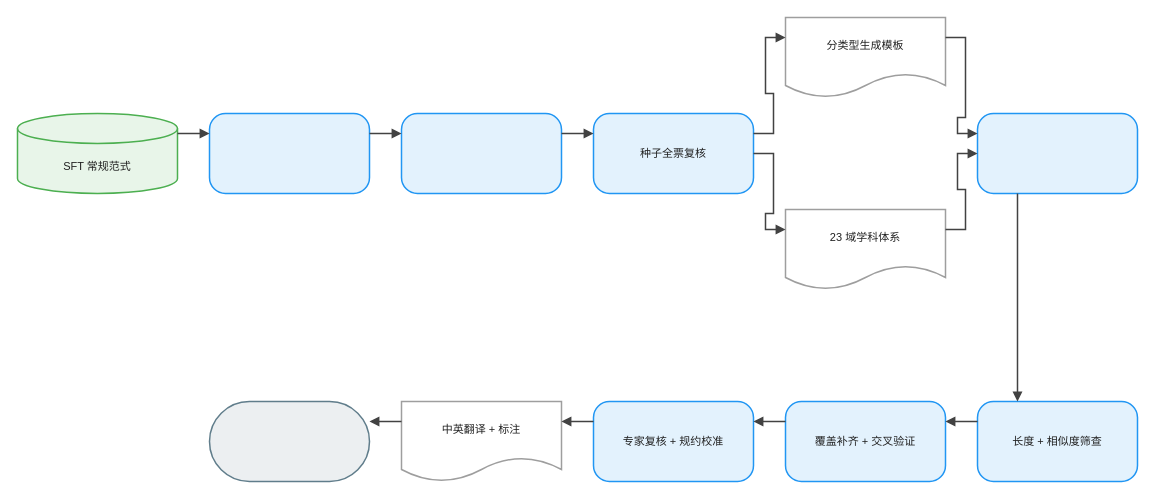
Image size: 1156x500. Some labels were removed from this diagram. The centre of each missing label's shape, as x and y in pixels:
"1,012 条数据" goes at (289,441).
"专家手工种子" goes at (481,153).
"多模型 · 每格 20 题" goes at (1057,153).
"观察反转 · 8 类" goes at (289,153).
